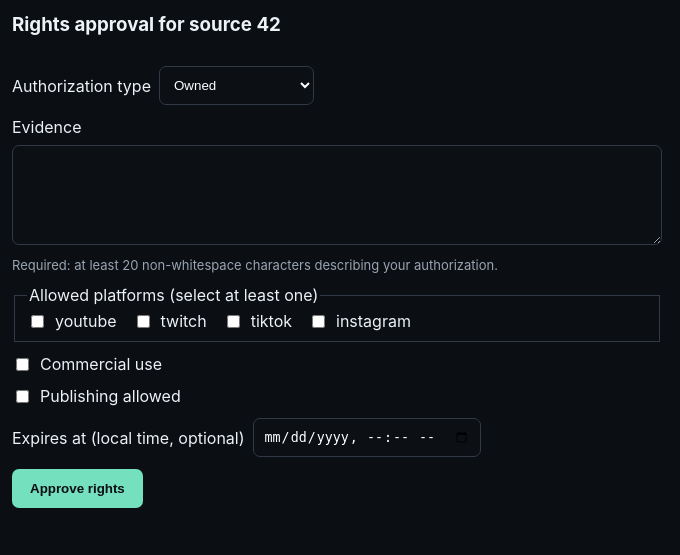
Test case: RightsForm › blocks insufficient non-whitespace evidence: too short
Type "too short" into the text box labelled "Evidence" at (337, 195), box [12, 145, 662, 245]
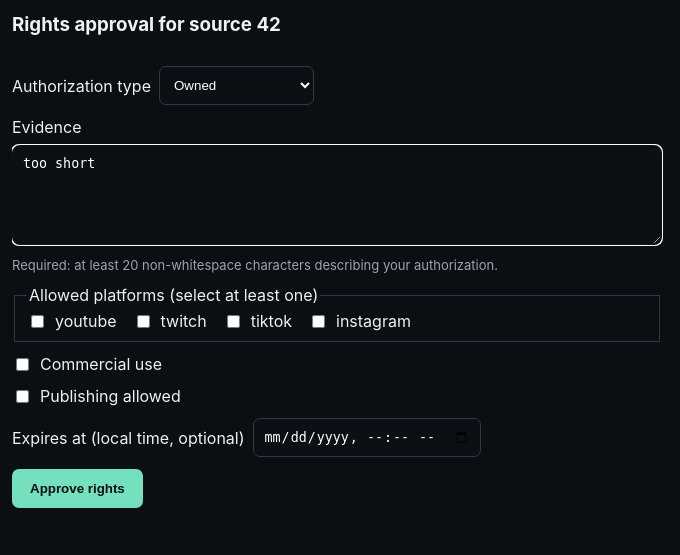
Click the checkbox labelled "youtube" at (38, 321), box [31, 314, 44, 328]
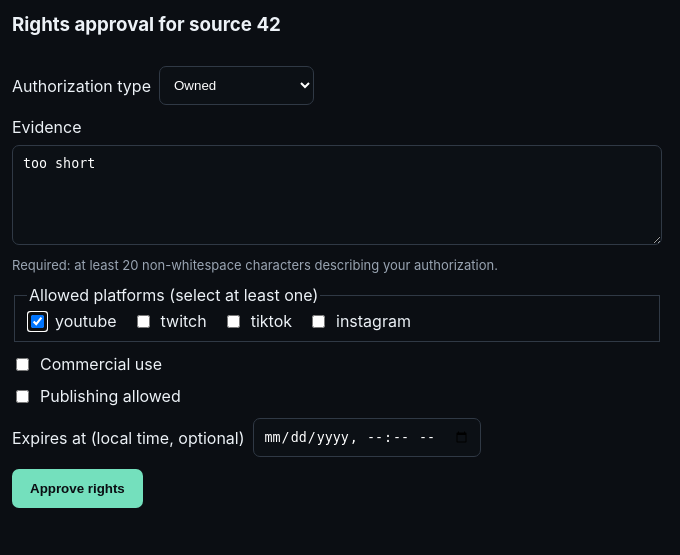
Click the button "Approve rights" at (77, 489), box [12, 469, 143, 508]
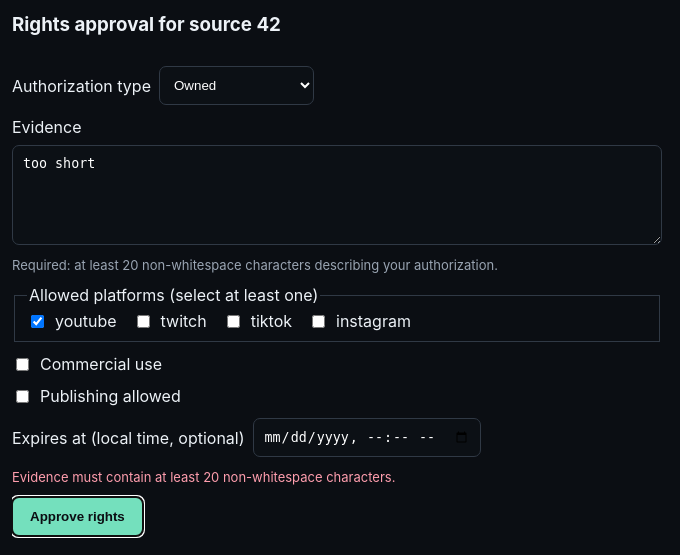
Check: the message shows "20 non-whitespace", box [12, 469, 395, 485]
